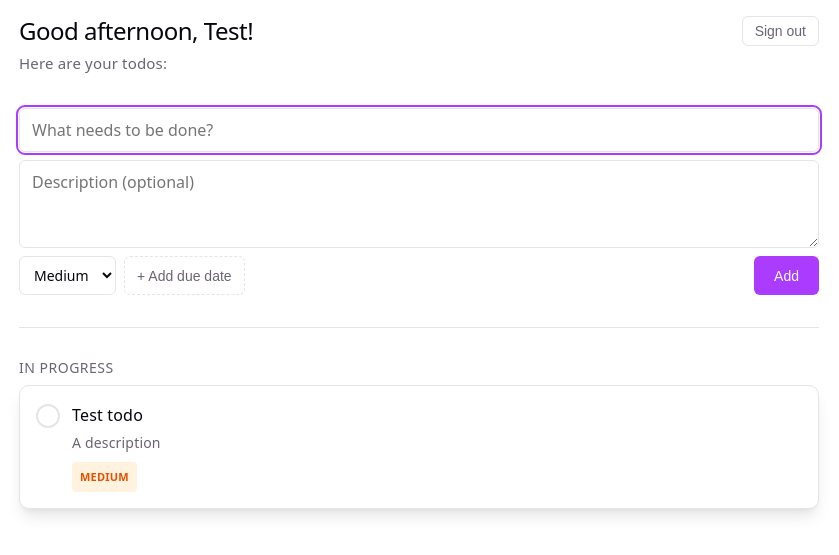
Test: TodoPage › toggles todo completion
This screenshot has width=839, height=555.
Expected: the text "Test todo" is shown, [72,404,143,426]
Click the button named "Mark complete" at (48, 416), box [36,404,60,428]
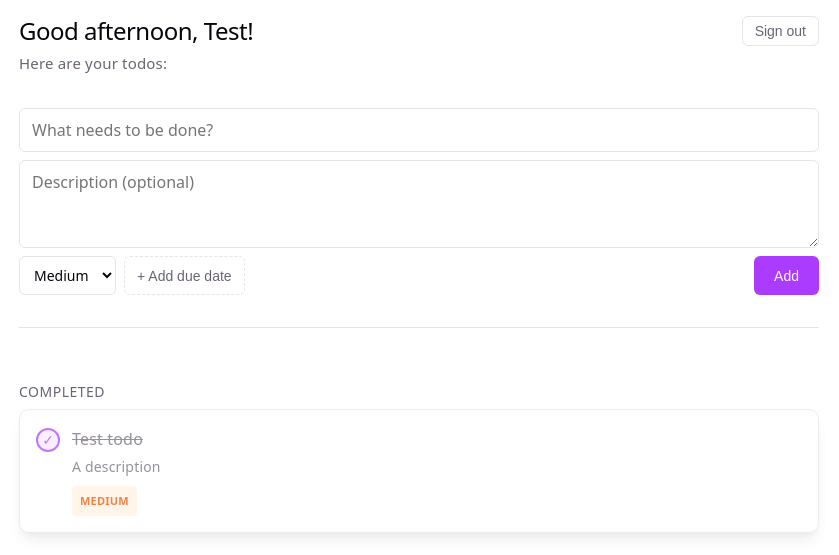
Expected: the heading "Completed" is shown, [19,382,105,401]
